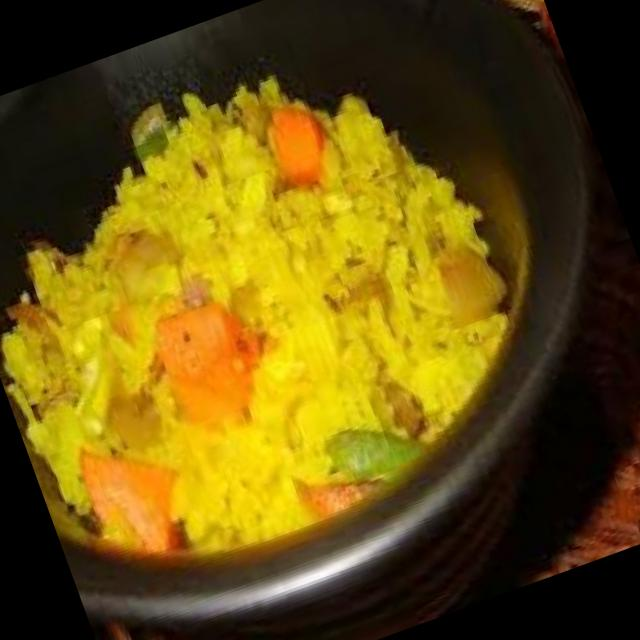poha: (0, 13, 561, 608)
